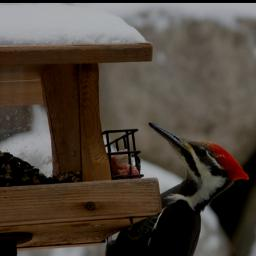Woodpecker: (6, 122, 256, 256)
